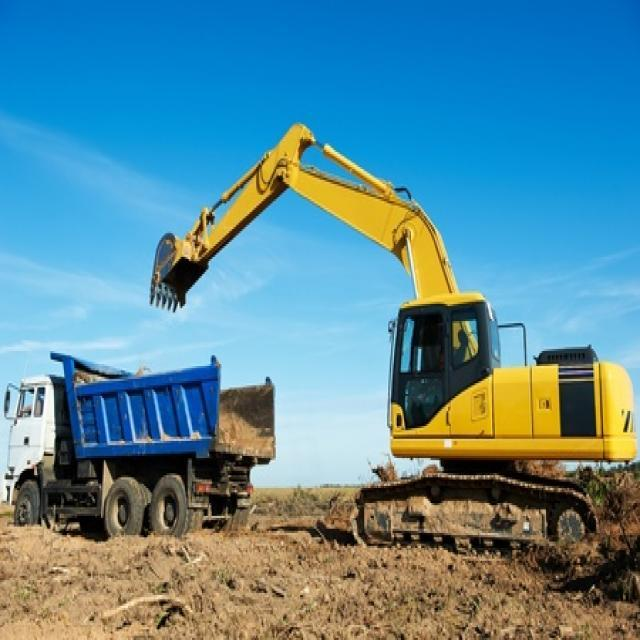C_E: (142, 118, 634, 556)
